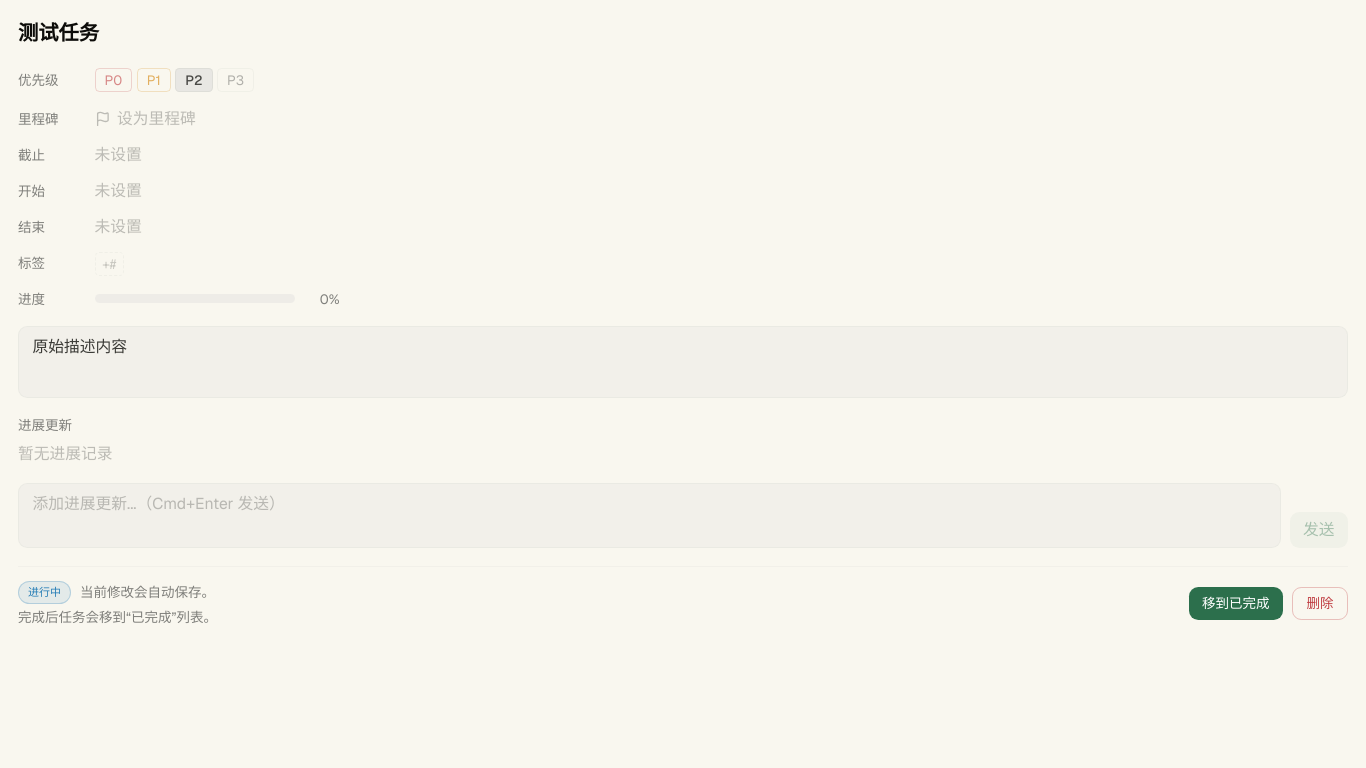
it: TaskDetail 描述保存失败可见化 › 网络异常（fetch reject）→ 同样显示错误提示
The image size is (1366, 768).
Click the element titled "点击编辑描述" at {"x": 683, "y": 362}, box 18,326 -> 1348,398
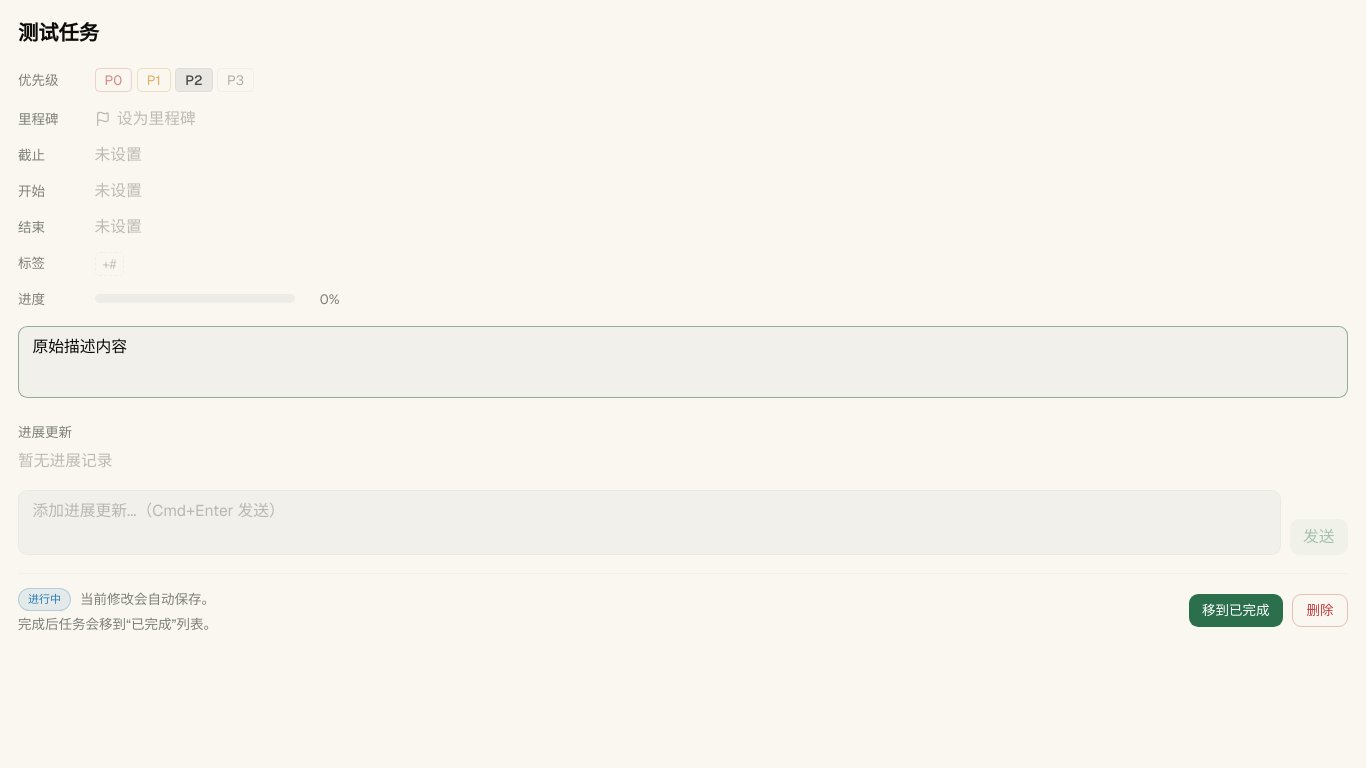
expect the 1st text box is shown: met
Replace the text in the 1st text box with "网络失败场景" at {"x": 683, "y": 362}, box 18,326 -> 1348,398
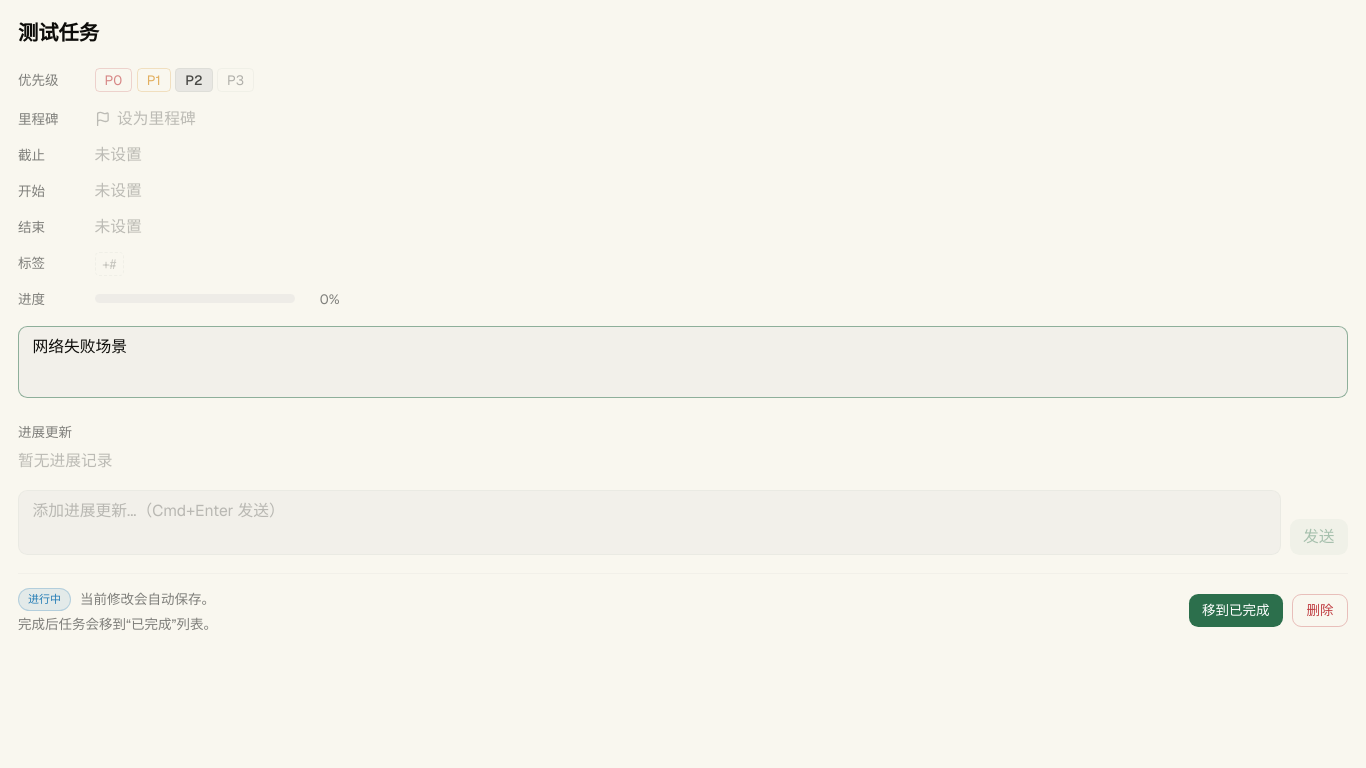
Leave the 1st text box, box 18,326 -> 1348,398
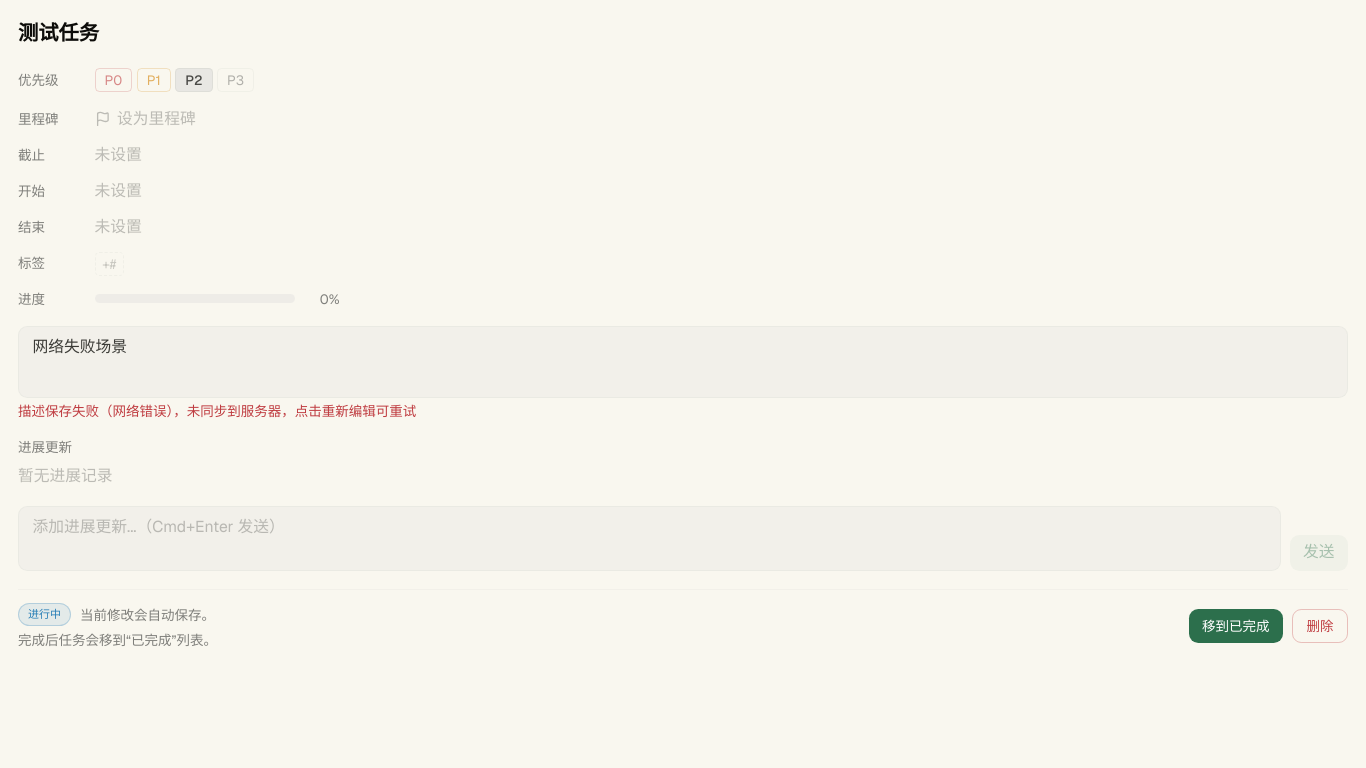
expect the text "描述保存失败（网络错误），未同步到服务器，点击重新编辑可重试" is shown: met, box 18,402 -> 416,420
